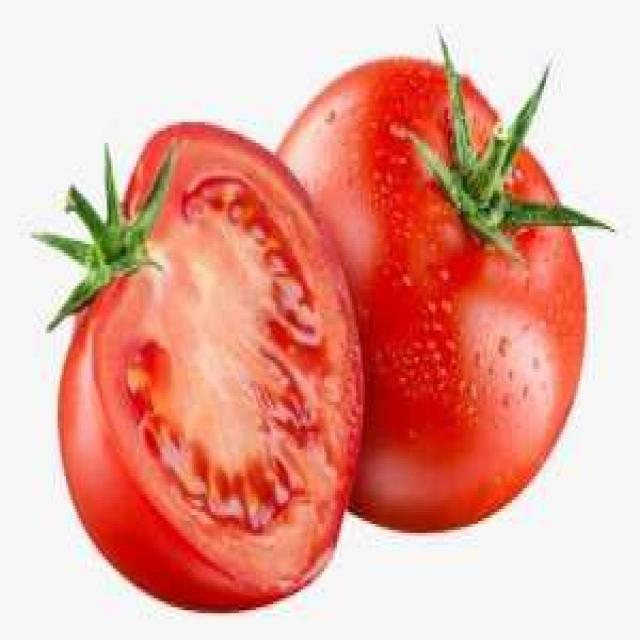Tomato: (59, 119, 368, 622), (319, 39, 586, 532)
